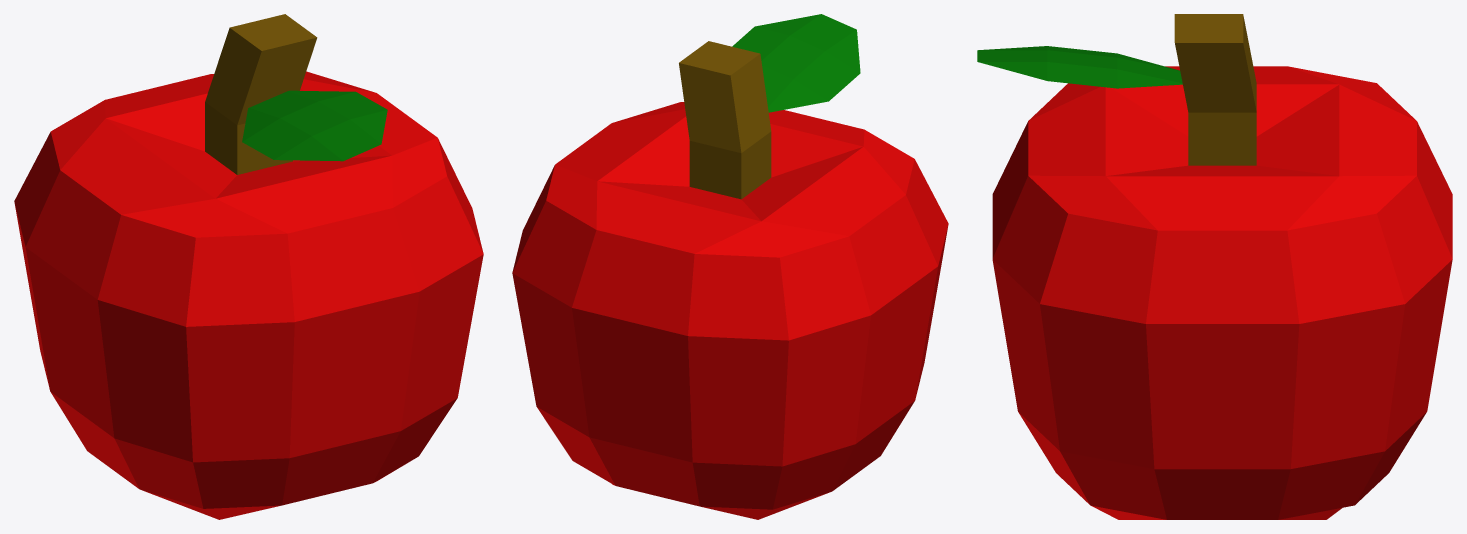
The model's file is Apple.fbx.
The picture shows the model from 3 angles, left to right: view 1: azimuth 30°, elevation 25°; view 2: azimuth 150°, elevation 25°; view 3: azimuth 270°, elevation 25°; orthographic projection. The views are drawn at different scales.
Parts seen in each view (by area): view 1: pCube1, pPlane1; view 2: pCube1, pPlane1; view 3: pCube1, pPlane1.
Part boxes in pixels (left/top/right/bottom): pCube1: left=14, top=14, right=483, bottom=519; pPlane1: left=242, top=90, right=387, bottom=161; pCube1: left=512, top=41, right=948, bottom=519; pPlane1: left=732, top=14, right=860, bottom=112; pCube1: left=992, top=14, right=1452, bottom=519; pPlane1: left=977, top=46, right=1182, bottom=88.
Size of the model in its own units: 62.96 by 69.47 by 65.04.
